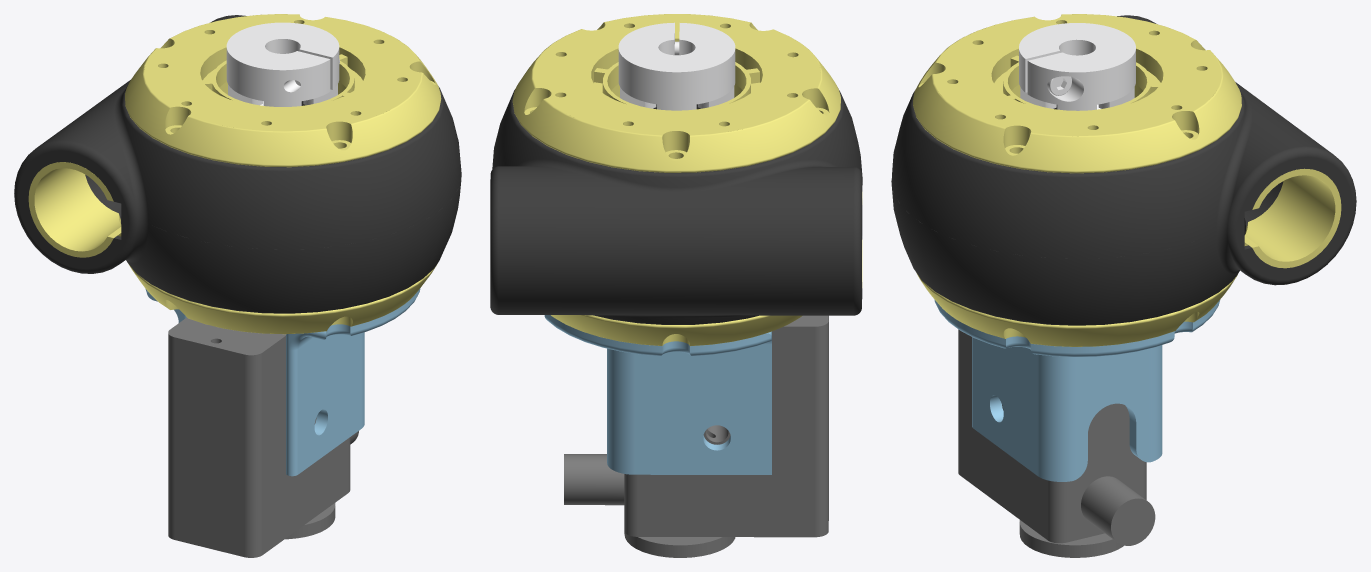
The picture shows the model from 3 angles, left to right: view 1: azimuth 30°, elevation 25°; view 2: azimuth 150°, elevation 25°; view 3: azimuth 270°, elevation 25°; orthographic projection. The views are drawn at different scales.
Parts seen in each view (by area): view 1: D00169642 (×2), Part 1 (×2), D00169185 (×2), D00449341, D00169099; view 2: D00169642 (×2), Part 1 (×2), D00169185 (×2), D00449341; view 3: D00169642 (×2), Part 1 (×2), D00169185 (×2), D00449341, D00169099.
Part boxes in pixels (<box>): D00169642 (×2): <box>14,15,461,313</box>; Part 1 (×2): <box>145,288,420,557</box>; D00169185 (×2): <box>125,14,441,334</box>; D00449341: <box>226,22,339,106</box>; D00169099: <box>28,162,121,257</box>; D00169642 (×2): <box>490,88,862,324</box>; Part 1 (×2): <box>544,315,828,557</box>; D00169185 (×2): <box>512,14,840,346</box>; D00449341: <box>618,22,735,110</box>; D00169642 (×2): <box>891,15,1356,325</box>; Part 1 (×2): <box>934,299,1219,557</box>; D00169185 (×2): <box>913,14,1241,346</box>; D00449341: <box>1019,23,1135,110</box>; D00169099: <box>1244,168,1341,268</box>.
Size of the model in its own units: 0.0974 by 0.1 by 0.1157.
